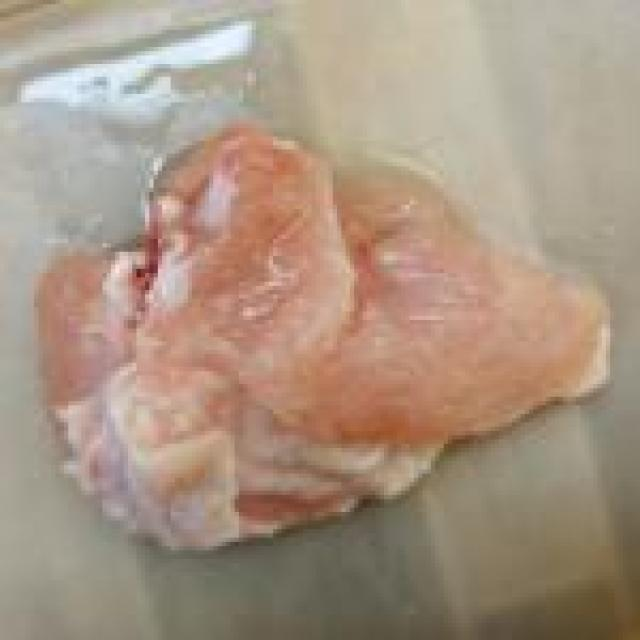breast: (27, 121, 617, 532)
